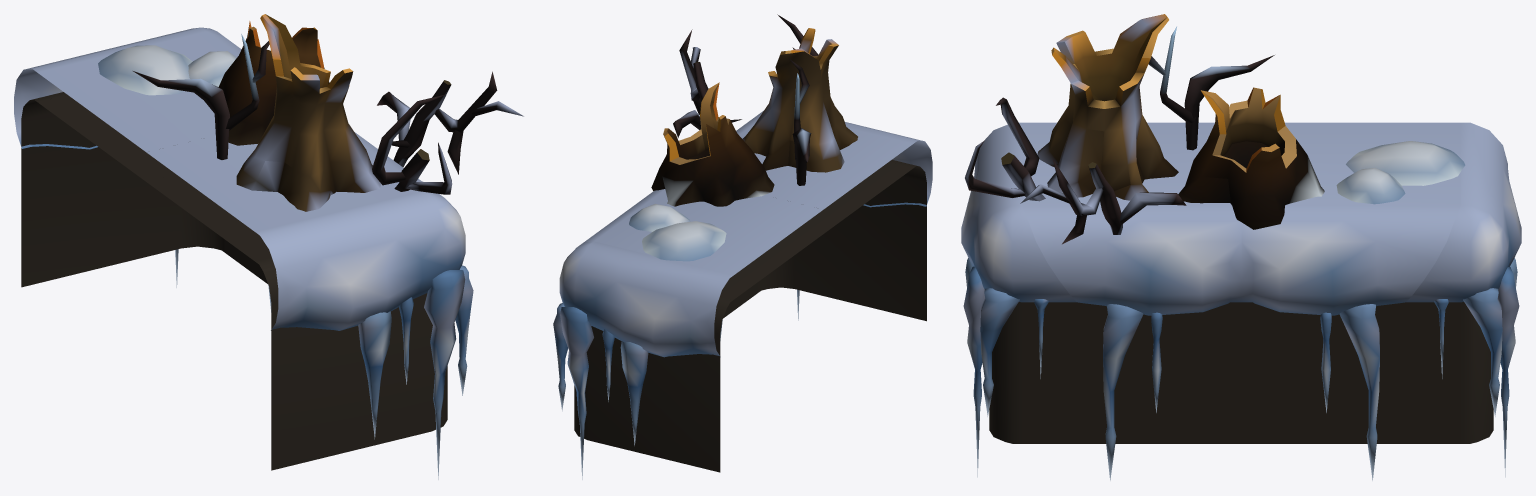
File: Island_01.fbx
3 renders of one model, left to right at view 1: azimuth 30°, elevation 25°; view 2: azimuth 150°, elevation 25°; view 3: azimuth 270°, elevation 25°, orthographic. The views are drawn at different scales.
Visible parts, largest first — view 1: Island_01; view 2: Island_01; view 3: Island_01.
Part boxes in pixels (<box>): Island_01: <box>14,14,523,479</box>; Island_01: <box>553,14,932,479</box>; Island_01: <box>961,14,1521,480</box>.
Bounding box in the file's own units: 2852 × 4252 × 5107.
